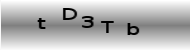3: (80, 14, 94, 30)
D: (61, 7, 77, 21)
T: (99, 19, 115, 35)
b: (125, 21, 140, 36)
t: (36, 16, 46, 30)
